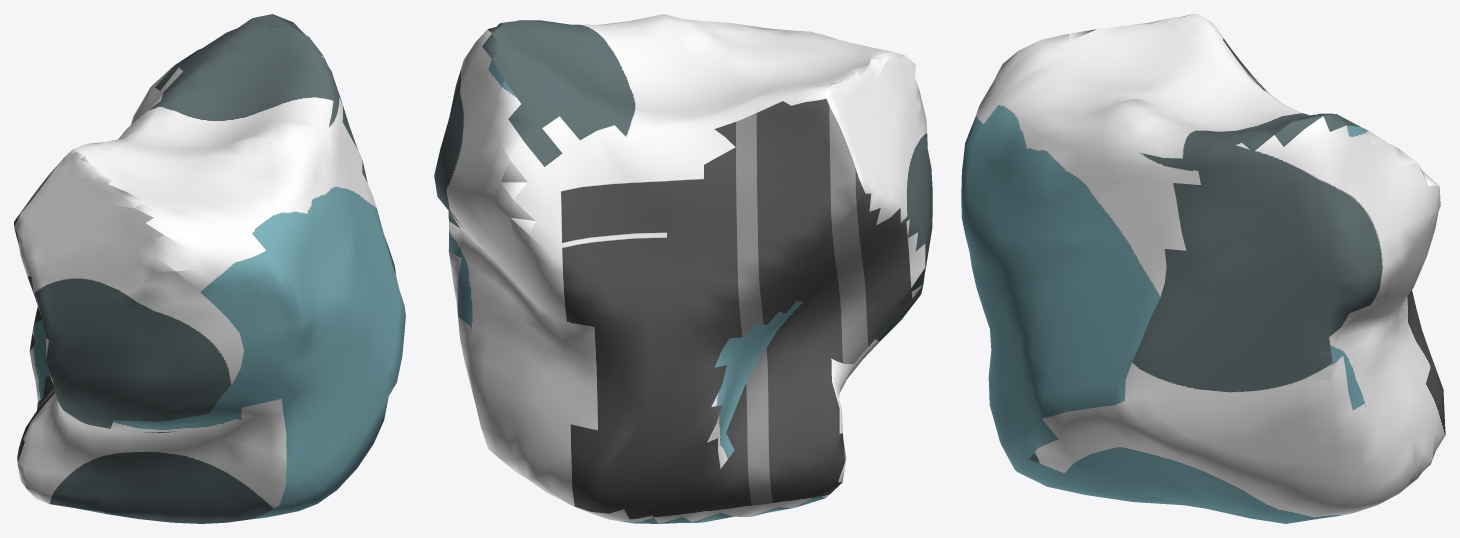
Rendered from meteorite04.dae.
3 renders of one model, left to right at view 1: azimuth 30°, elevation 25°; view 2: azimuth 150°, elevation 25°; view 3: azimuth 270°, elevation 25°, orthographic. The views are drawn at different scales.
Visible parts, largest first — view 1: meteorite04; view 2: meteorite04; view 3: meteorite04.
Part boxes in pixels (x1,y1,x2,y2): meteorite04: [14, 14, 405, 523]; meteorite04: [434, 14, 932, 523]; meteorite04: [961, 14, 1445, 523].
Bounding box in the file's own units: 1.88 × 2 × 2.08.
